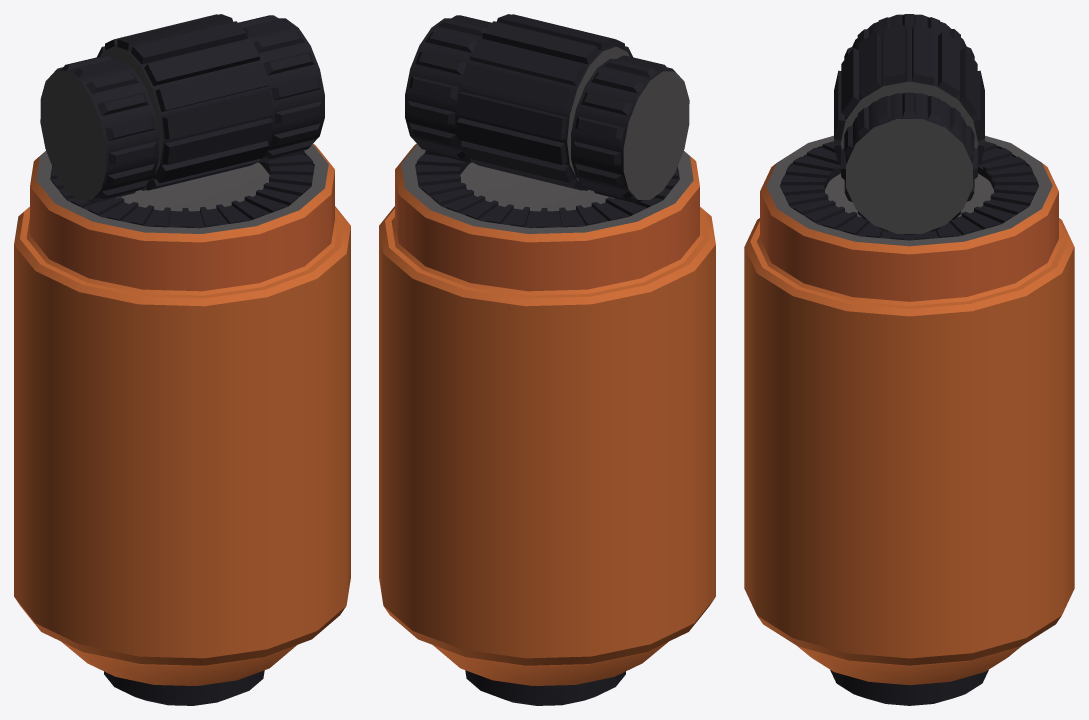
The model's file is l_leg.glb.
3 views of the same model, side by side, from view 1: azimuth 30°, elevation 25°; view 2: azimuth 150°, elevation 25°; view 3: azimuth 270°, elevation 25° (orthographic). The views are drawn at different scales.
Visible parts, largest first — view 1: l_leg; view 2: l_leg; view 3: l_leg.
Part boxes in pixels (box(x1,y1,x2,y2)): l_leg: box(14, 14, 350, 705); l_leg: box(379, 14, 715, 705); l_leg: box(744, 14, 1074, 705).
Bounding box in the file's own units: 0.4932 × 1.04 × 0.4932.
